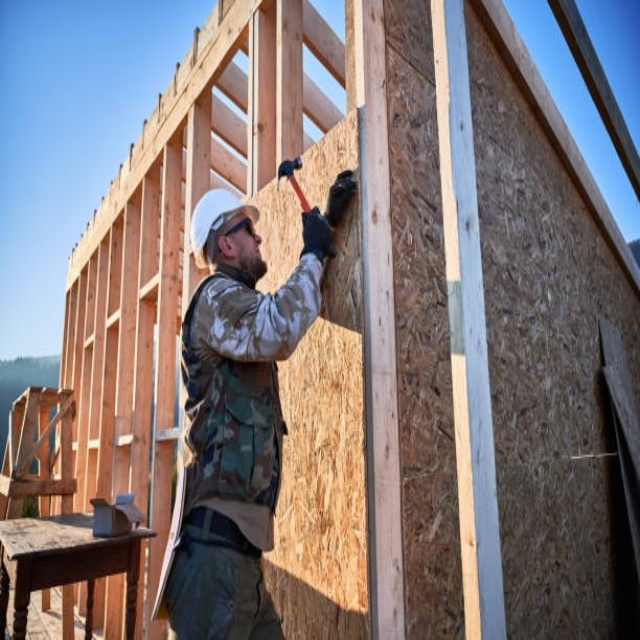Gafas: (221, 217, 254, 242)
Guantes: (300, 207, 336, 263), (325, 171, 357, 228)
Sin_mascara: (243, 240, 267, 272)
